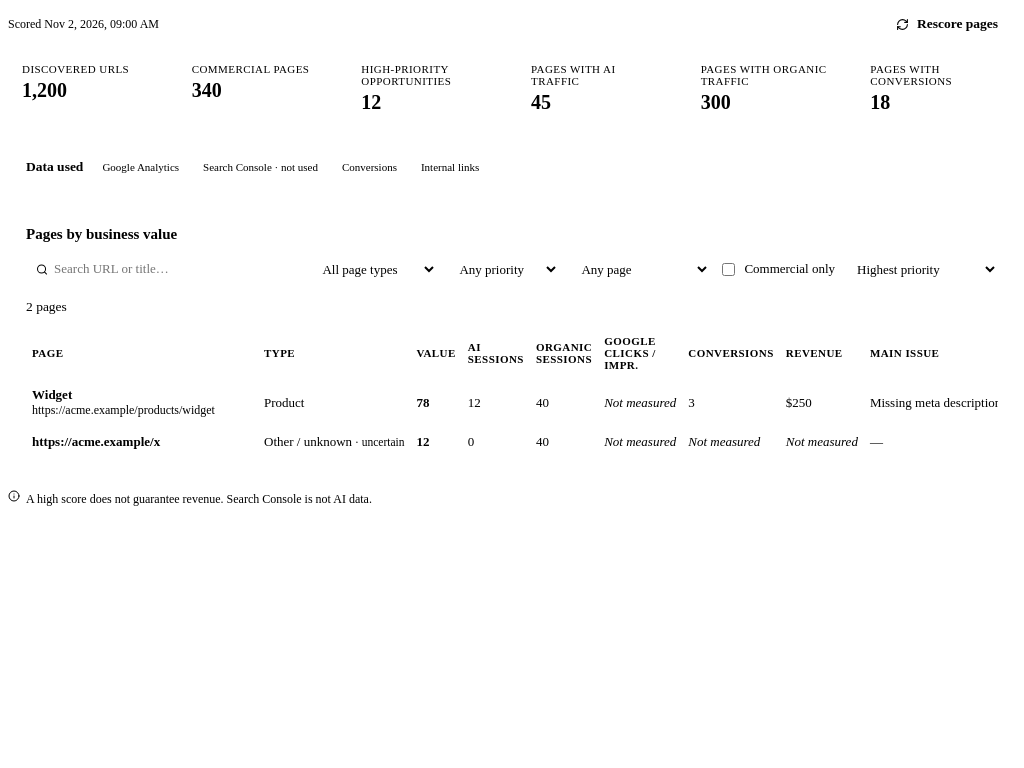
URL detail › a detail error is shown inside the drawer
Click the button "Widget": (52, 395) [32,387,72,403]
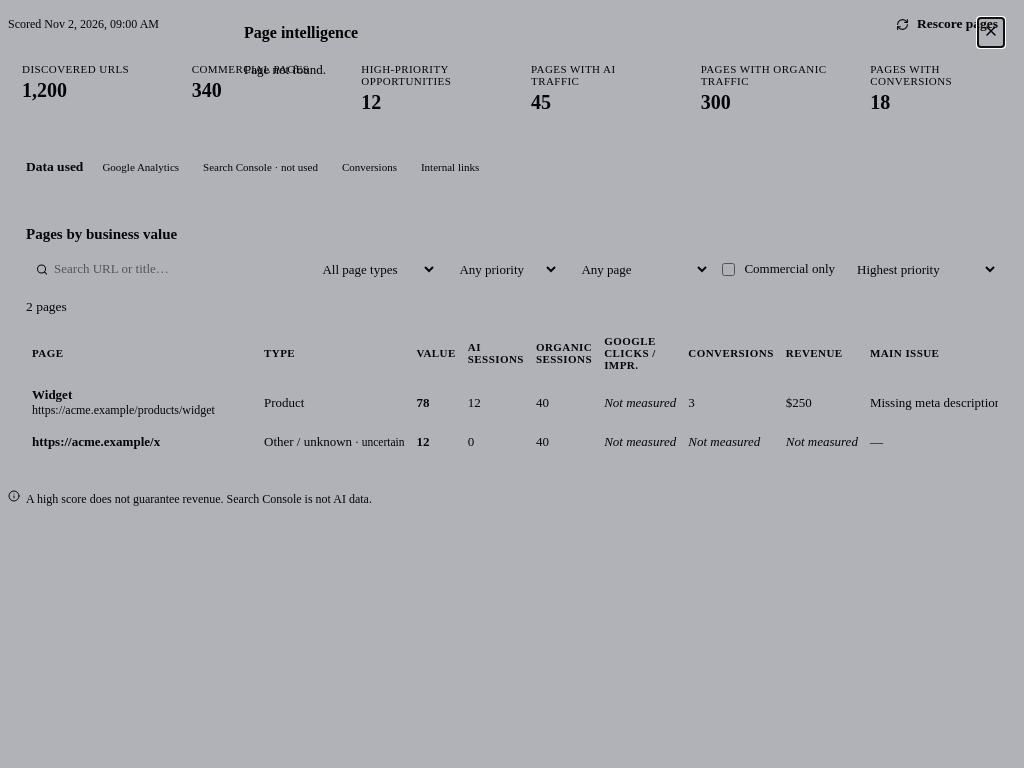
Expected: the text "Page not found." is shown, [244,62,326,77]
